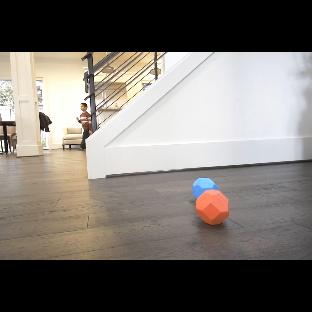V5_BLUE: (192, 178, 215, 197)
V5_RED: (196, 190, 229, 225)
pieces: (191, 175, 231, 226)
